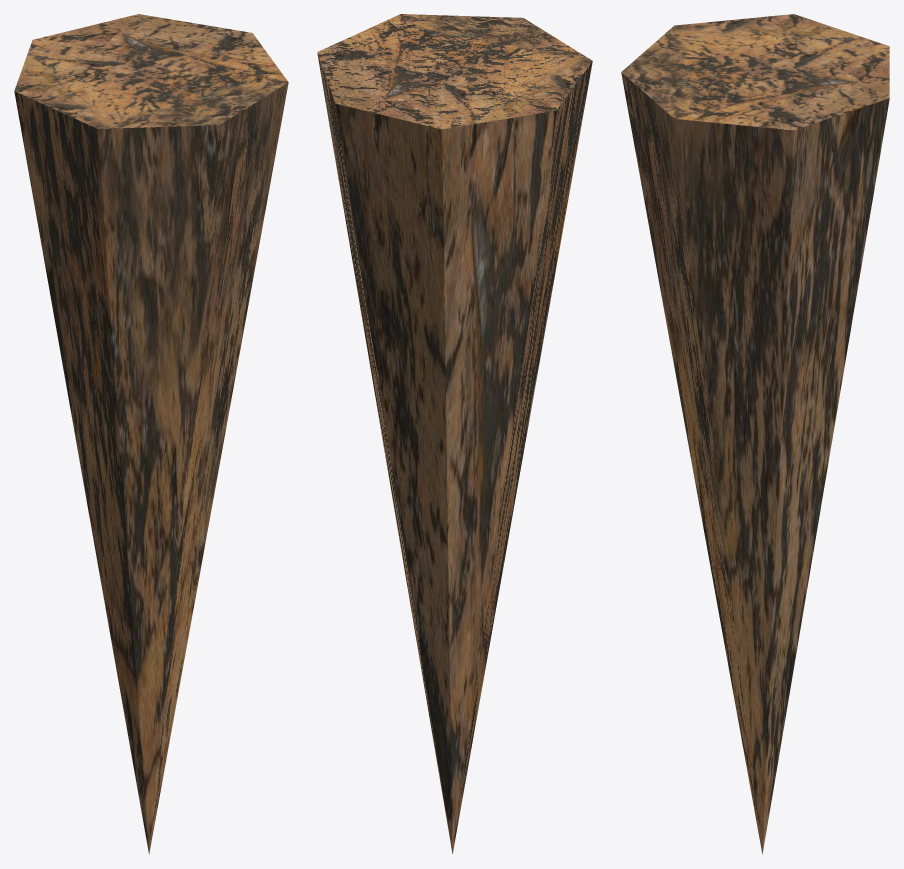
Rendered from stalactite.glb.
3 renders of one model, left to right at view 1: azimuth 30°, elevation 25°; view 2: azimuth 150°, elevation 25°; view 3: azimuth 270°, elevation 25°, orthographic.
Visible parts, largest first — view 1: stalactite; view 2: stalactite; view 3: stalactite.
Boxes of the visible parts, x1,y1,x2,y2 form: stalactite: [14, 14, 288, 854]; stalactite: [317, 14, 592, 853]; stalactite: [621, 14, 889, 854].
Bounding box in the file's own units: 0.351 × 1.1 × 0.3422.
1 material, 1 textured.
